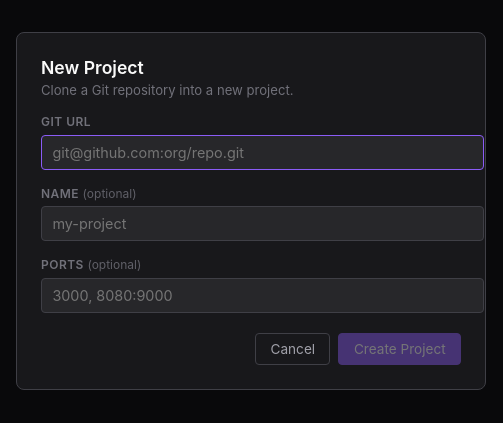
it: NewProjectWizard › shows error when ports field contains non-numeric value
Type "git@github.com:org/alpha.git" into the field with placeholder "git@github.com:org/repo.git" at (262, 152), box [41,134,484,170]
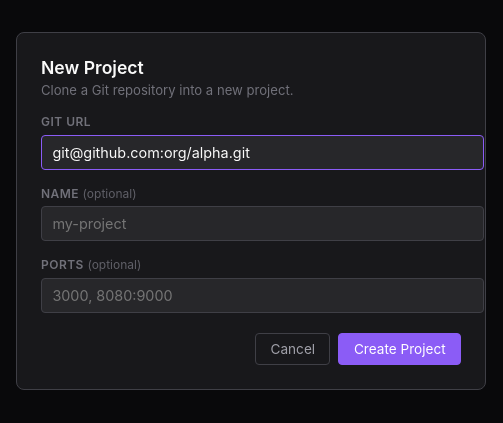
Type "3000, abc" into the field with placeholder "3000, 8080:9000" at (262, 295), box [41,278,484,313]
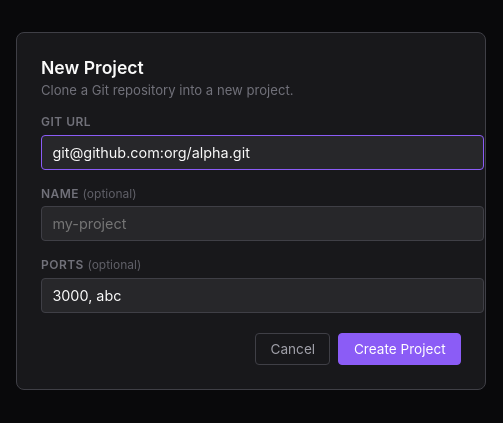
Click the button "Create Project" at (400, 349), box [338,333,461,365]
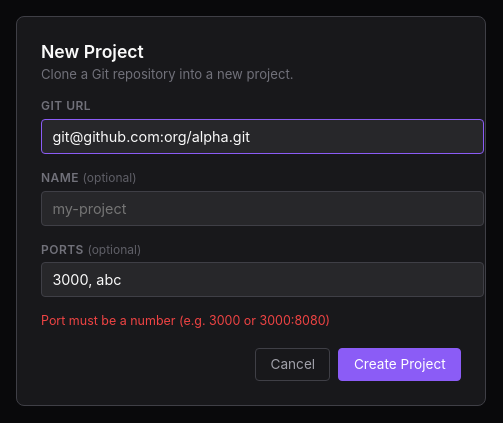
expect the text "Port must be a number (e.g. 3000 or 3000:8080)" is shown: met, box [41,313,330,328]
